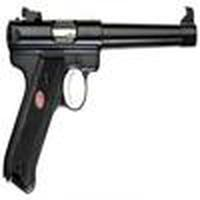gun: (3, 9, 200, 194)
